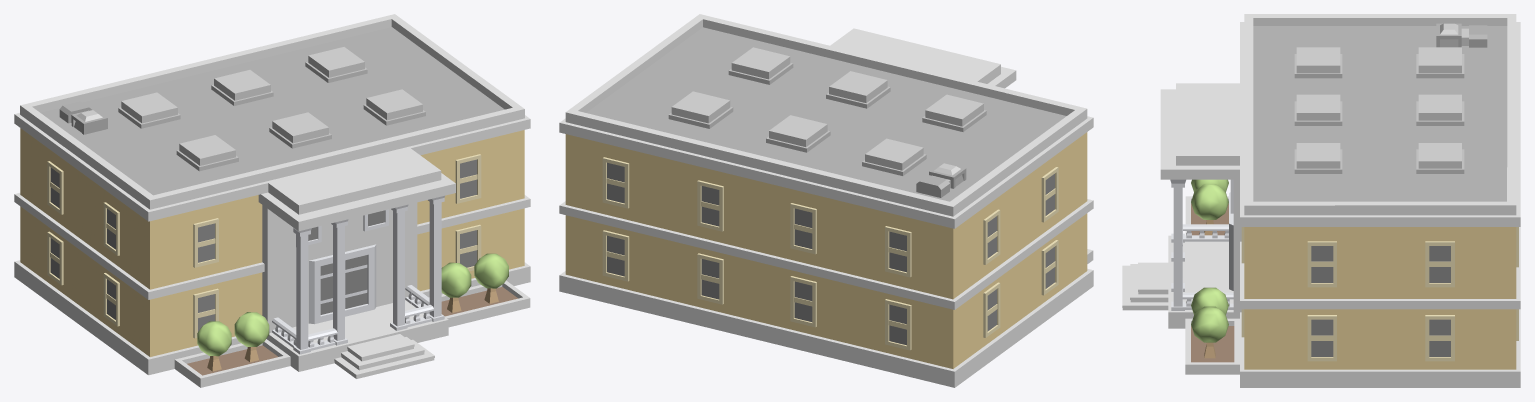
The model's file is building_yellow_bank.fbx.
3 views of the same model, side by side, from view 1: azimuth 30°, elevation 25°; view 2: azimuth 150°, elevation 25°; view 3: azimuth 270°, elevation 25° (orthographic). The views are drawn at different scales.
Parts seen in each view (by area): view 1: building_yellow_bank; view 2: building_yellow_bank; view 3: building_yellow_bank.
Boxes of the visible parts, x1,y1,x2,y2 form: building_yellow_bank: (14, 14, 530, 387); building_yellow_bank: (559, 14, 1093, 387); building_yellow_bank: (1122, 14, 1520, 387).
Size of the model in its own units: 510 by 229 by 440.
